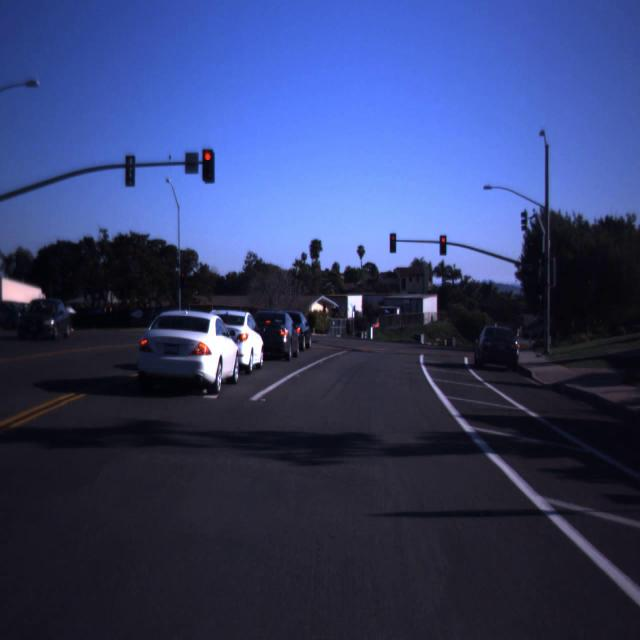arka_lamba: (126, 155, 134, 186)
kirmizi: (203, 149, 213, 181), (441, 236, 446, 254)
